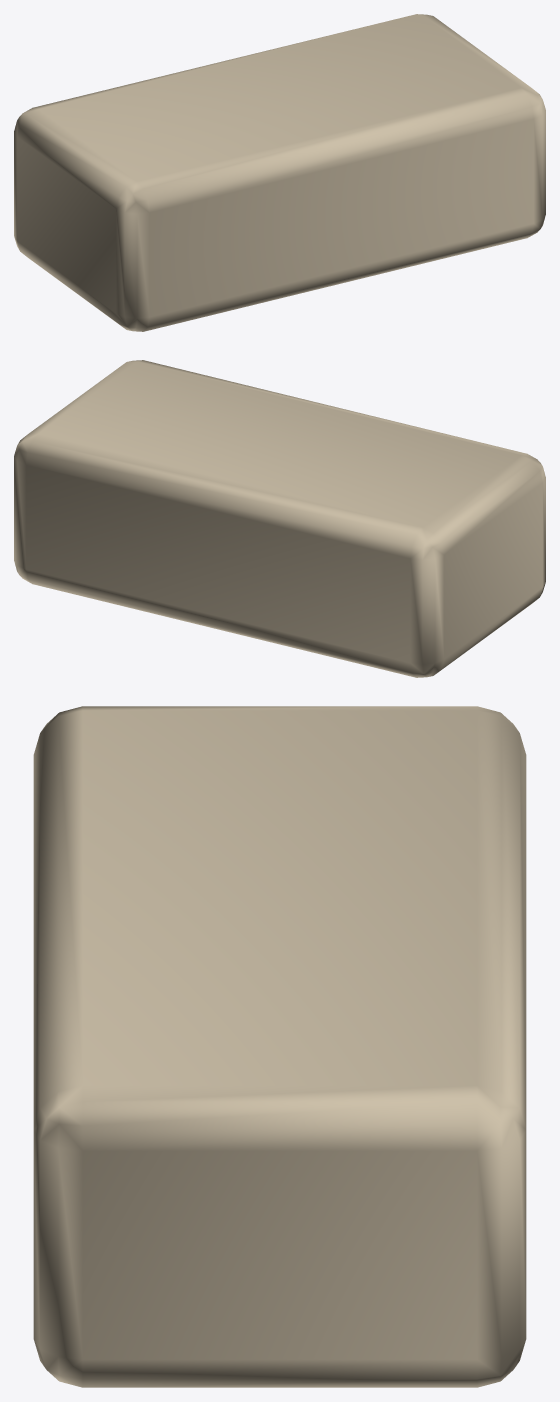
File: clay_brick.glb
The picture shows the model from 3 angles, top to bottom: view 1: azimuth 30°, elevation 25°; view 2: azimuth 150°, elevation 25°; view 3: azimuth 270°, elevation 25°; orthographic projection. The views are drawn at different scales.
Visible parts, largest first — view 1: clay_brick; view 2: clay_brick; view 3: clay_brick.
Boxes of the visible parts, x1,y1,x2,y2 form: clay_brick: [14, 14, 545, 331]; clay_brick: [14, 360, 545, 677]; clay_brick: [33, 706, 526, 1387].
Size of the model in its own units: 0.6 by 0.2 by 0.3.
